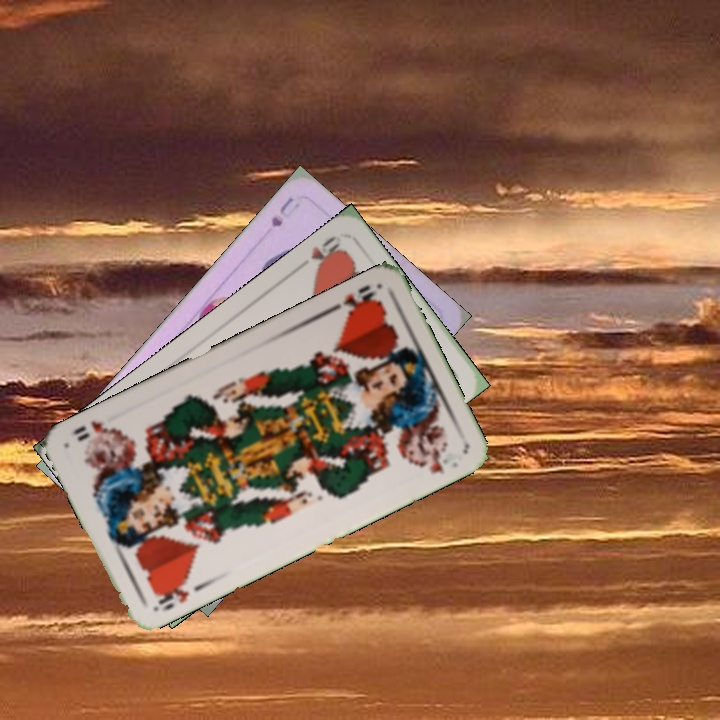HO: (326, 280, 384, 319), (293, 231, 345, 274), (150, 573, 193, 614)
SU: (266, 193, 303, 230)
